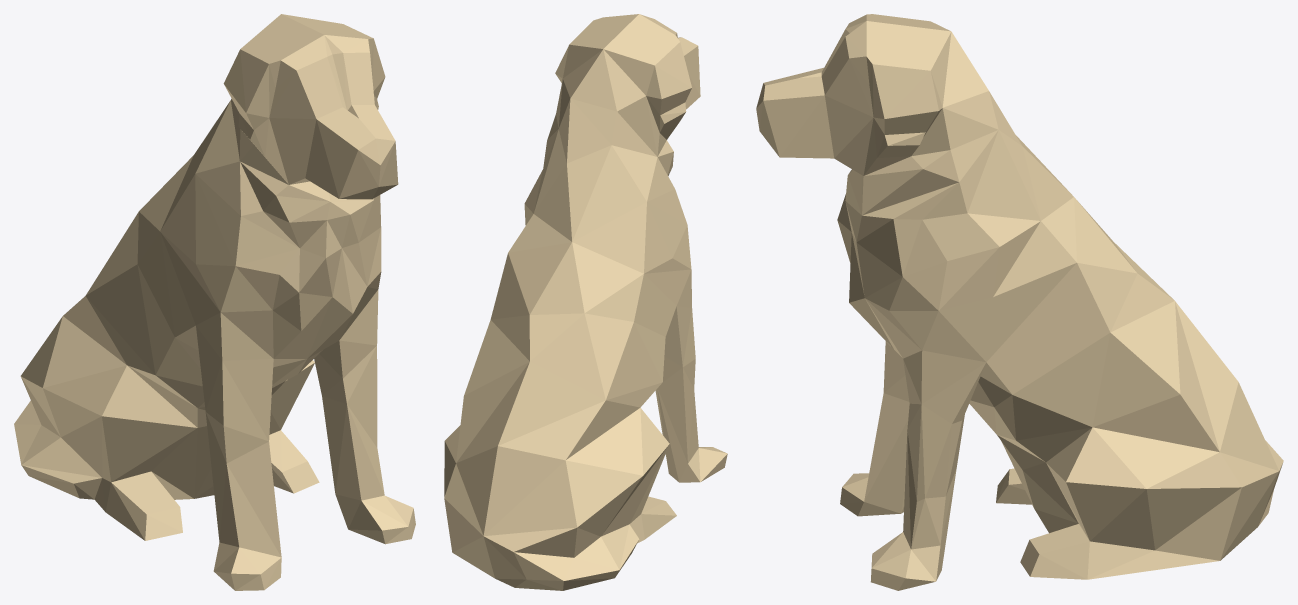
File: golden-retriever.glb
3 renders of one model, left to right at view 1: azimuth 30°, elevation 25°; view 2: azimuth 150°, elevation 25°; view 3: azimuth 270°, elevation 25°, orthographic. The views are drawn at different scales.
Visible parts, largest first — view 1: beto_lowpoly_flowalistik.stl; view 2: beto_lowpoly_flowalistik.stl; view 3: beto_lowpoly_flowalistik.stl.
Part boxes in pixels (x1,y1,x2,y2): beto_lowpoly_flowalistik.stl: (14,14,415,590); beto_lowpoly_flowalistik.stl: (444,14,727,590); beto_lowpoly_flowalistik.stl: (756,14,1283,590).
Bounding box in the file's own units: 0.5815 × 1.16 × 1.07.
